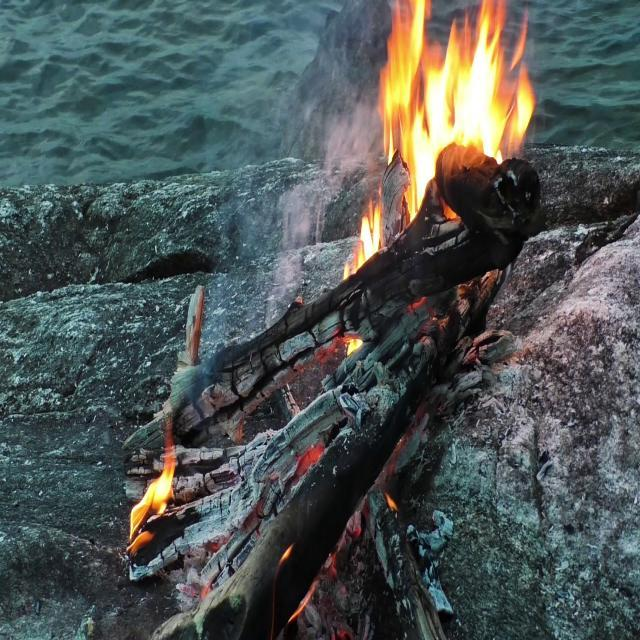Fire: (377, 1, 529, 204), (125, 439, 182, 538), (342, 182, 393, 286)
Smoke: (270, 67, 370, 296)
